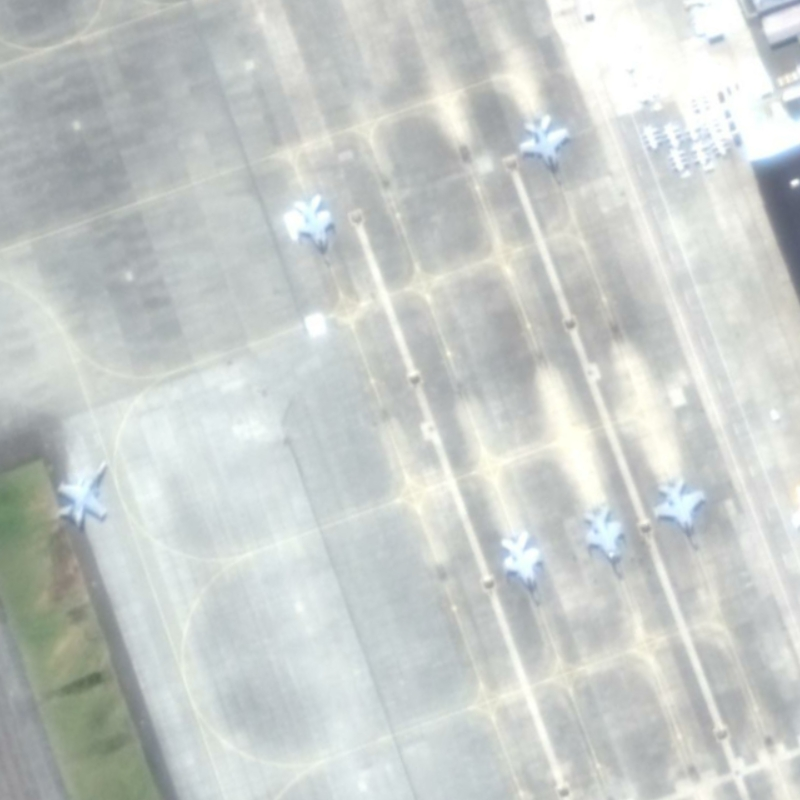A16: (44, 449, 121, 534), (572, 492, 643, 583), (492, 524, 559, 616), (646, 469, 717, 554), (510, 108, 582, 188), (285, 189, 354, 272)
